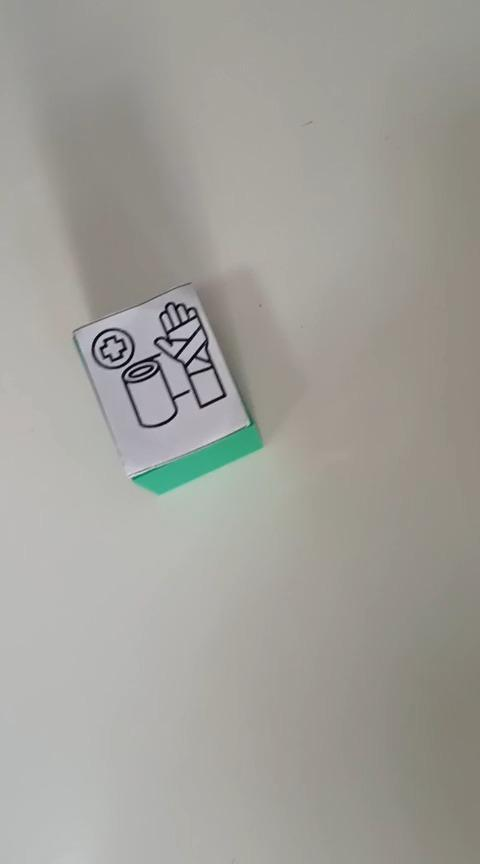Bandages: (71, 280, 263, 495)
